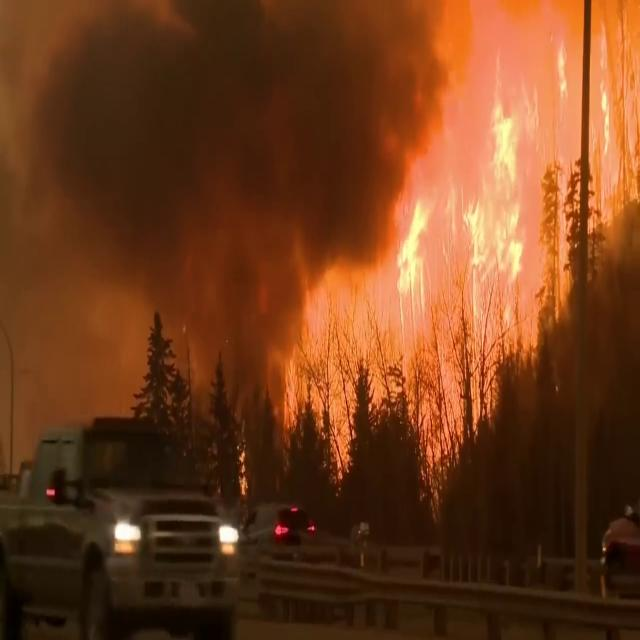Fire: (383, 1, 639, 385)
Smoke: (0, 0, 431, 425)
